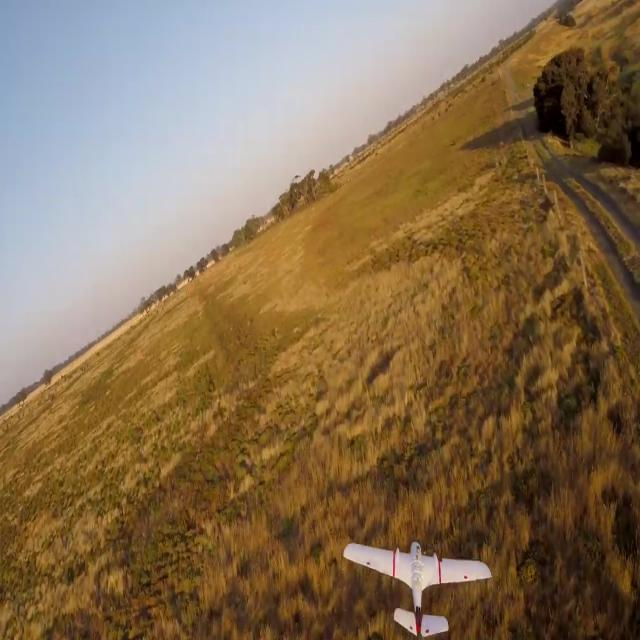iha: (341, 573, 492, 608)
